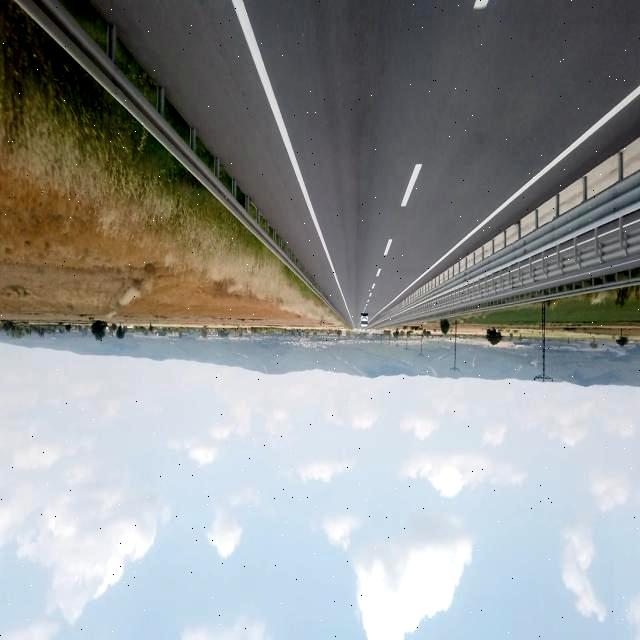lane: (384, 85, 639, 308), (231, 4, 339, 288), (402, 164, 422, 206), (474, 1, 488, 9)
road: (94, 1, 639, 324)
